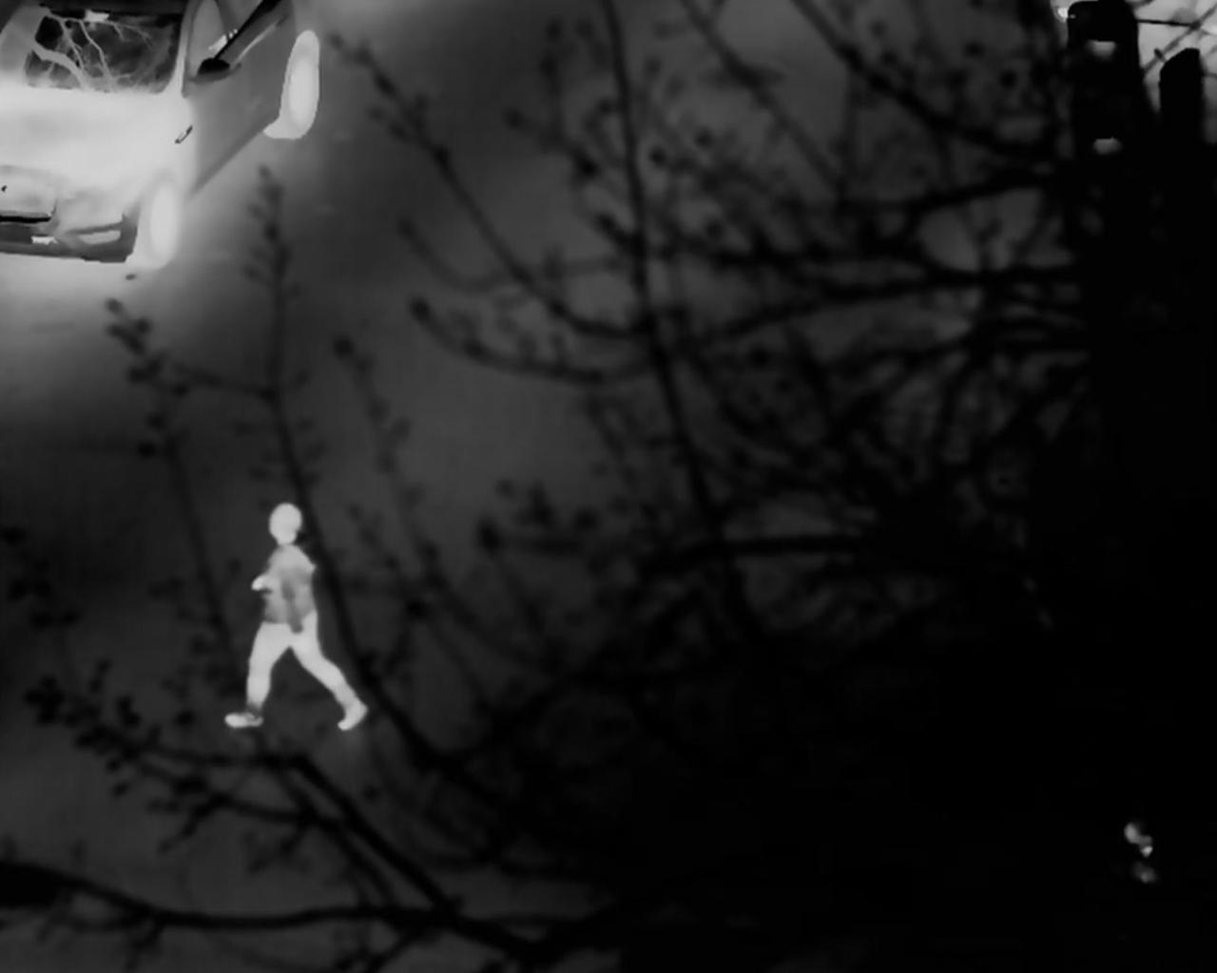person: (242, 503, 377, 741)
